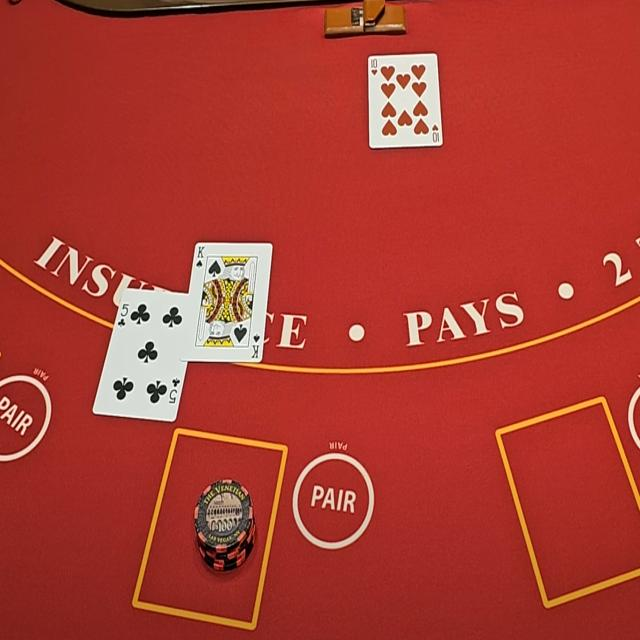10: (369, 57, 379, 69)
5: (120, 301, 130, 318)
K: (197, 246, 206, 260)
